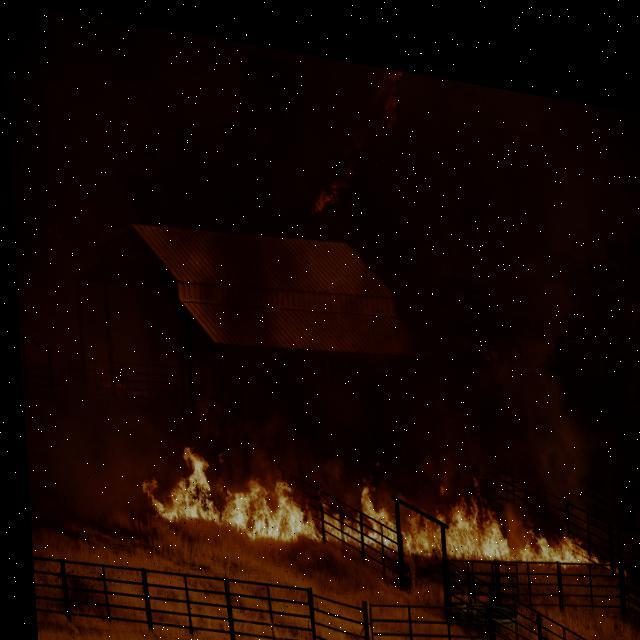Fire: (134, 426, 606, 582)
